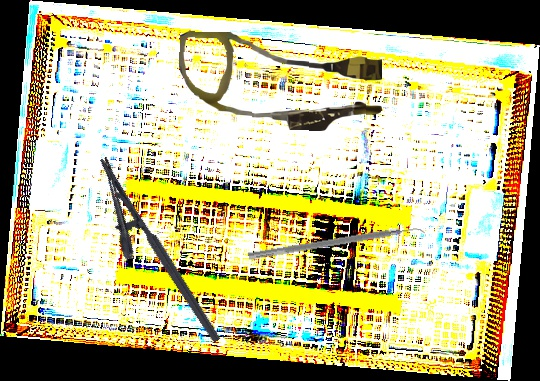Cannula: (178, 31, 383, 132)
Needle Holder: (73, 155, 222, 360)
Spatula Surgical: (247, 221, 427, 269)
